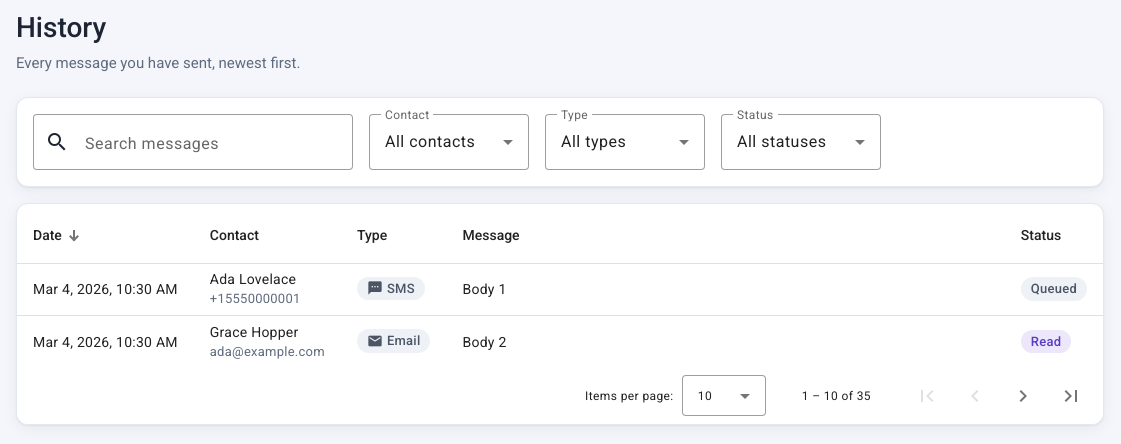
Scenario: HistoryPageComponent › paging › requests the next page and keeps the other settings
Click the button named "Next page" at (1023, 396), box [999,372,1047,420]
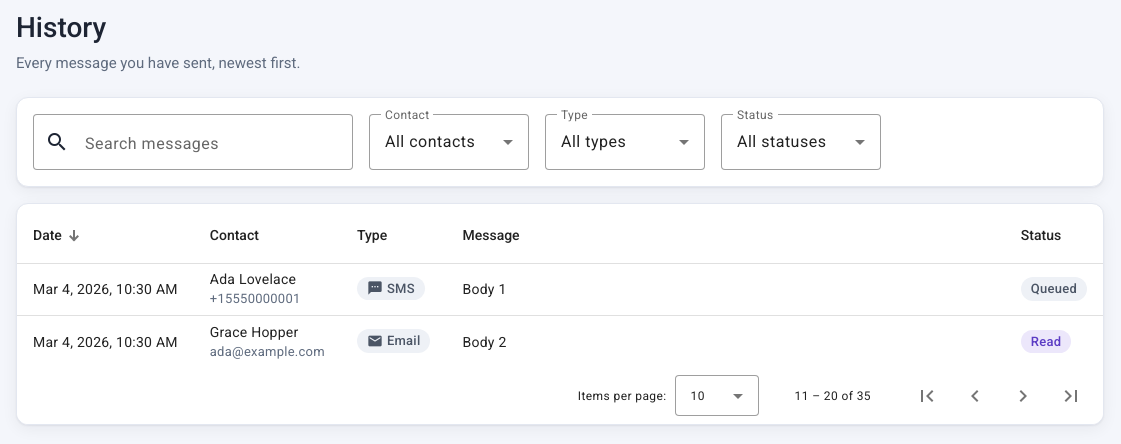
Now the text "11 – 20 of 35" is shown, box [794,386,871,406]
